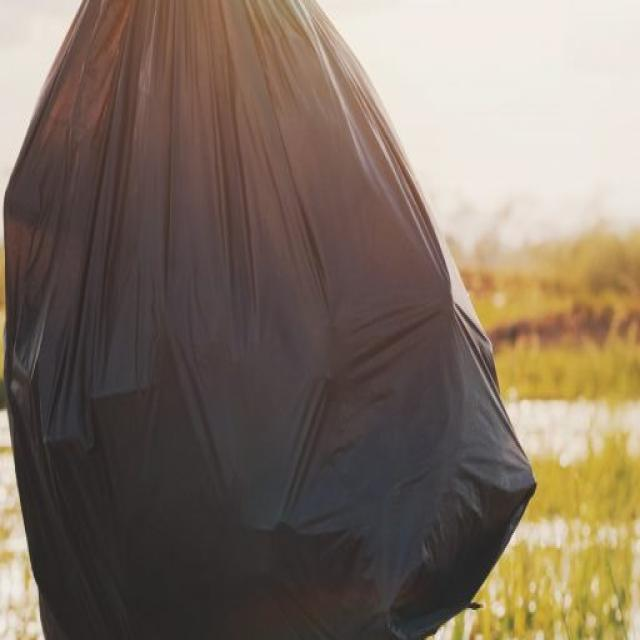Trashbag: (5, 5, 540, 639)
